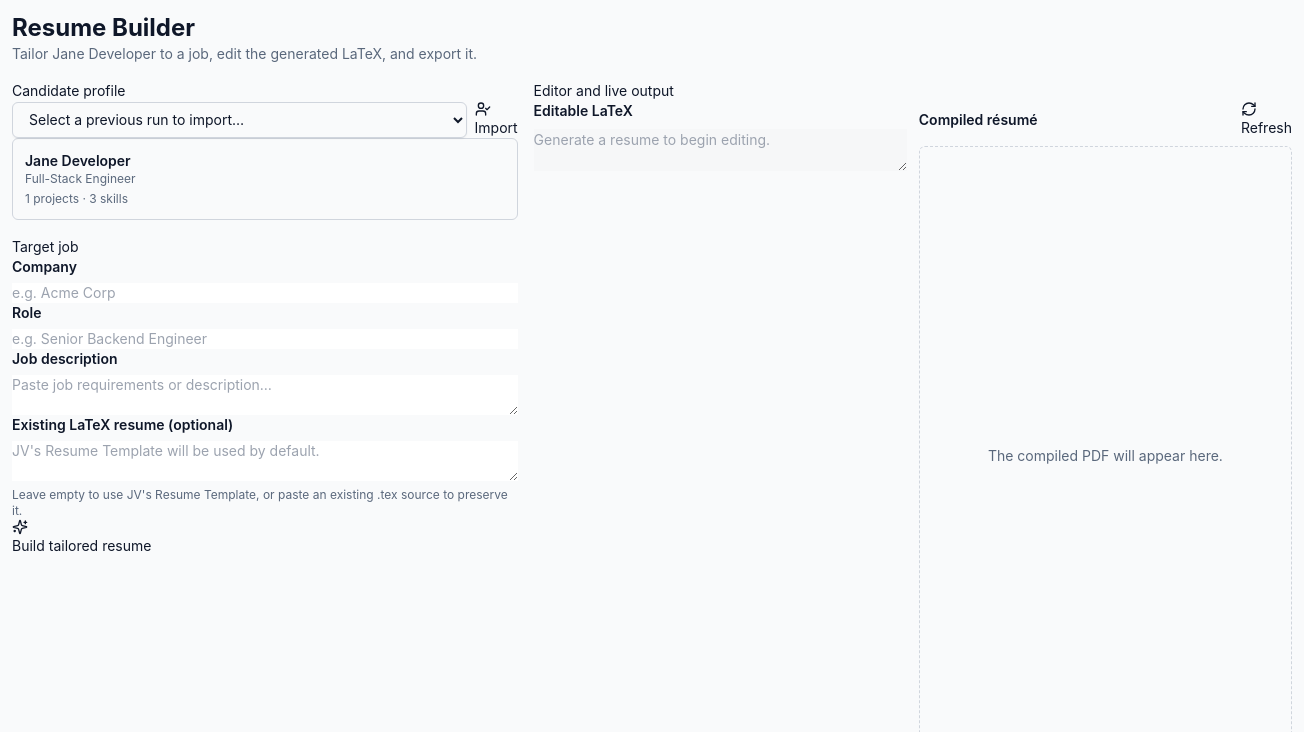
it: ResumeBuilderPage › handles API failure when building tailored resume and displays error message
Check: the text "Jane Developer" is shown, box top-left (25, 152), bottom-right (131, 169)
Type "Acme Corp" into the field labelled "Company" at (265, 293), box top-left (12, 283), bottom-right (518, 303)
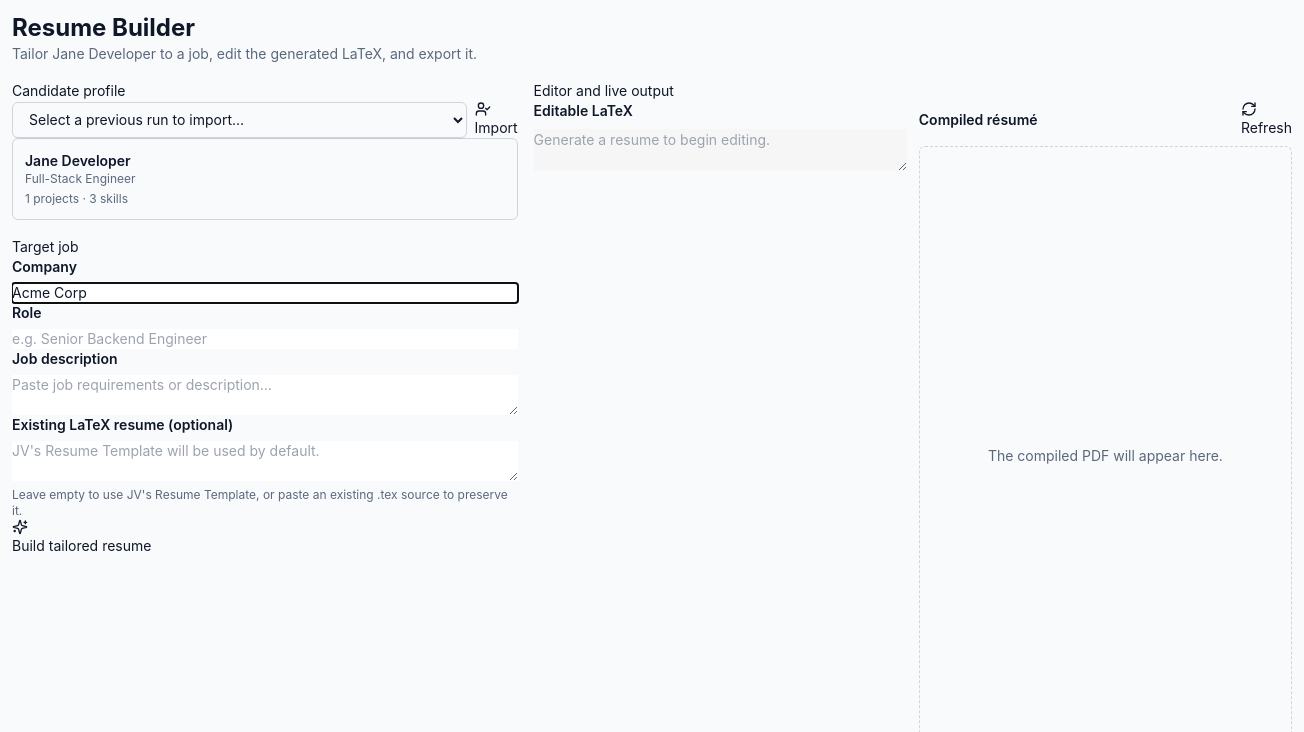
Click the button "Build tailored resume" at (82, 538), box top-left (12, 519), bottom-right (151, 556)
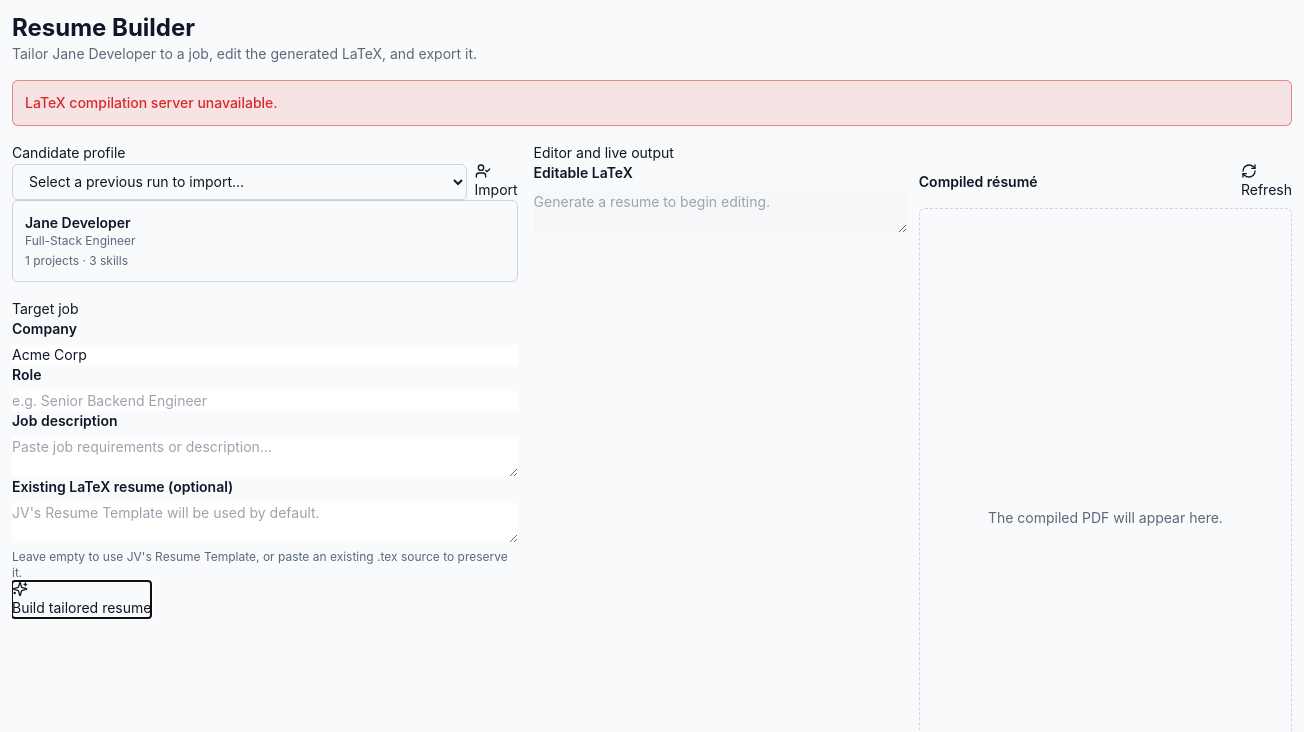
Check: the message reads "LaTeX compilation server unavailable.", box top-left (25, 94), bottom-right (278, 111)
